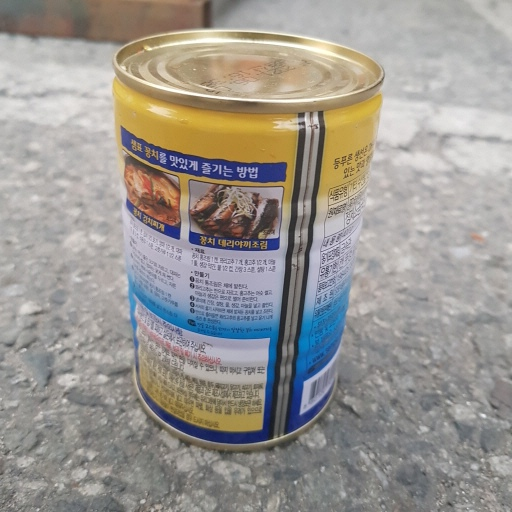Metal_1: (107, 30, 385, 451)
